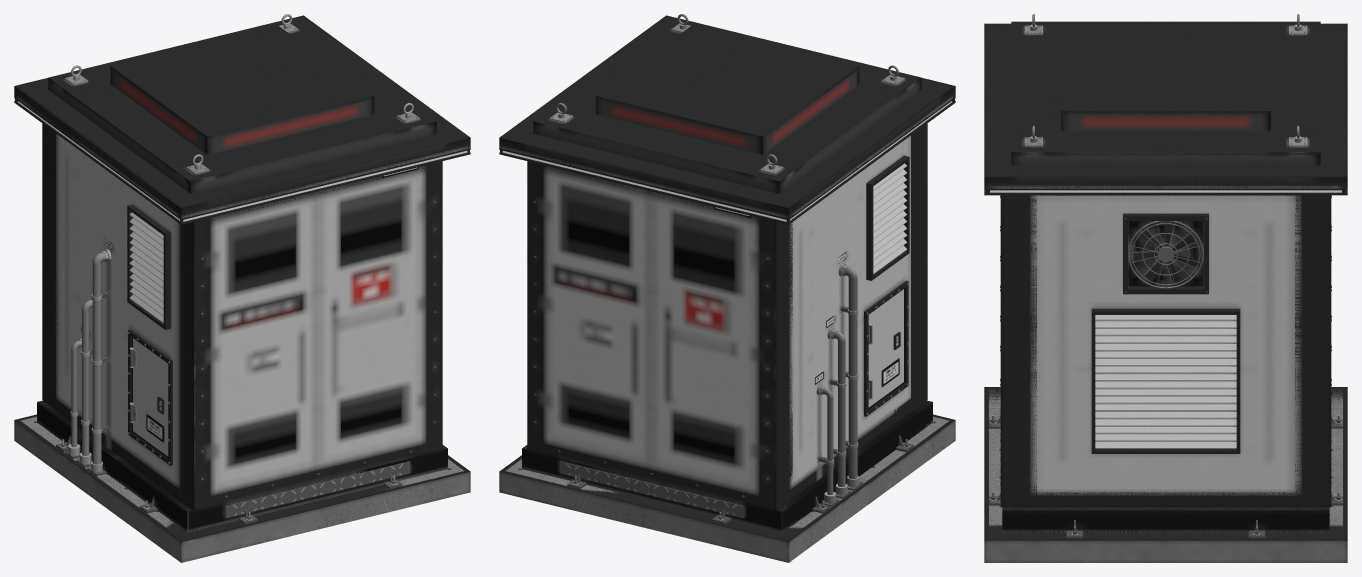
File: gridcabinet-DYosWciH.glb
3 renders of one model, left to right at view 1: azimuth 30°, elevation 25°; view 2: azimuth 150°, elevation 25°; view 3: azimuth 270°, elevation 25°, orthographic. The views are drawn at different scales.
Parts seen in each view (by area): view 1: farBaked, body, glow; view 2: farBaked, body, glow; view 3: farBaked, body, glow.
Boxes of the visible parts, x1,y1,x2,y2 form: farBaked: [14, 15, 470, 562]; body: [14, 14, 470, 562]; glow: [18, 101, 467, 221]; farBaked: [499, 15, 955, 562]; body: [499, 14, 955, 562]; glow: [502, 101, 951, 221]; farBaked: [984, 21, 1347, 562]; body: [984, 14, 1347, 562]; glow: [990, 190, 1341, 192].
Size of the model in its own units: 2.2 by 2.8 by 2.2.
3 materials, 3 textured.
